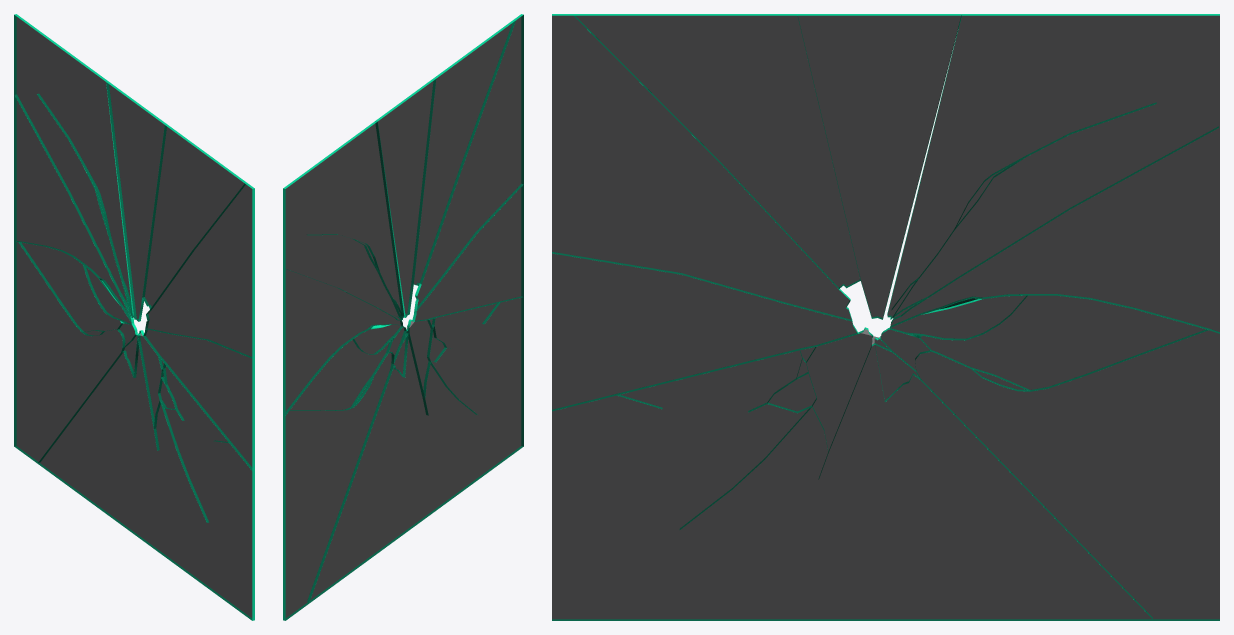
The model's file is glass.fbx.
3 views of the same model, side by side, from view 1: azimuth 30°, elevation 25°; view 2: azimuth 150°, elevation 25°; view 3: azimuth 270°, elevation 25° (orthographic). The views are drawn at different scales.
Parts seen in each view (by area): view 1: Cube; view 2: Cube; view 3: Cube.
Boxes of the visible parts, x1,y1,x2,y2 form: Cube: (14,14,254,620); Cube: (283,14,523,620); Cube: (552,14,1219,620).
Bounding box in the file's own units: 1.24 × 200 × 200.
